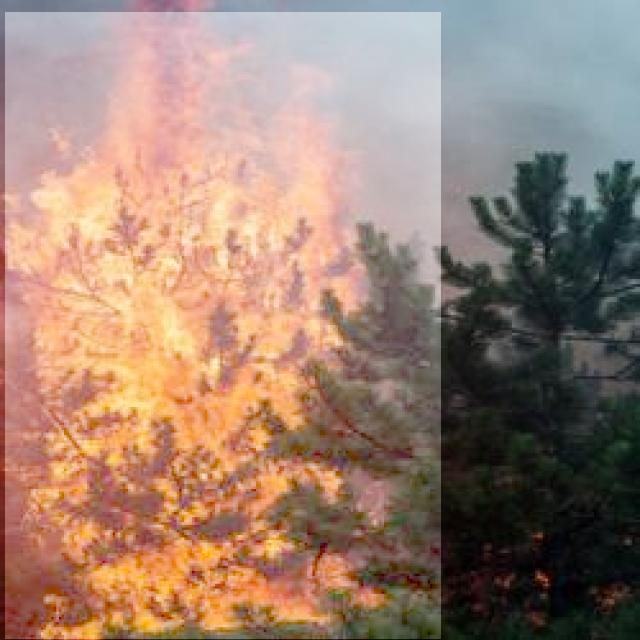Fire: (5, 12, 441, 639)
